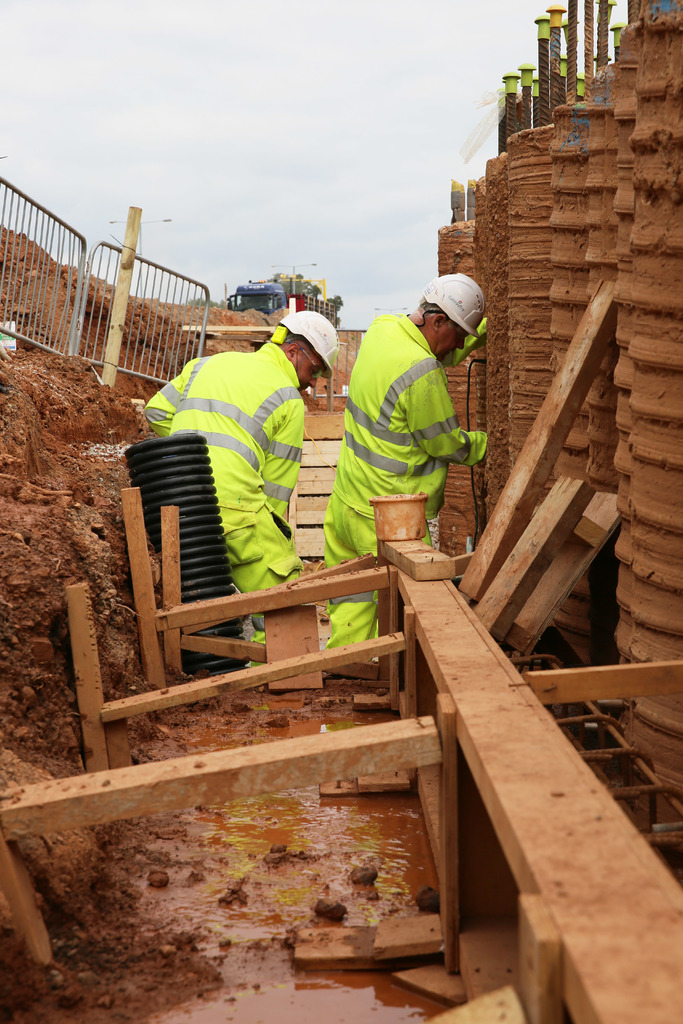Person: (144, 310, 339, 666), (321, 269, 486, 664)
